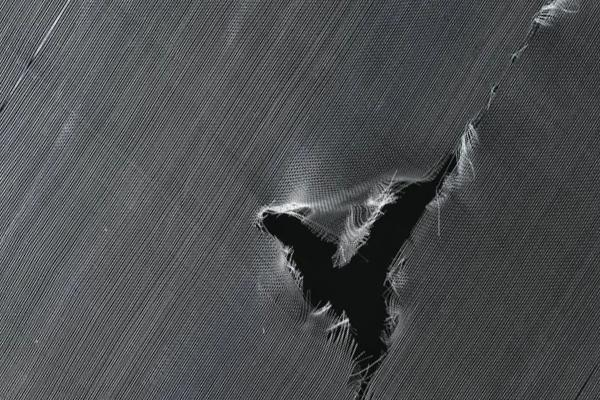hole: (255, 150, 462, 397)
